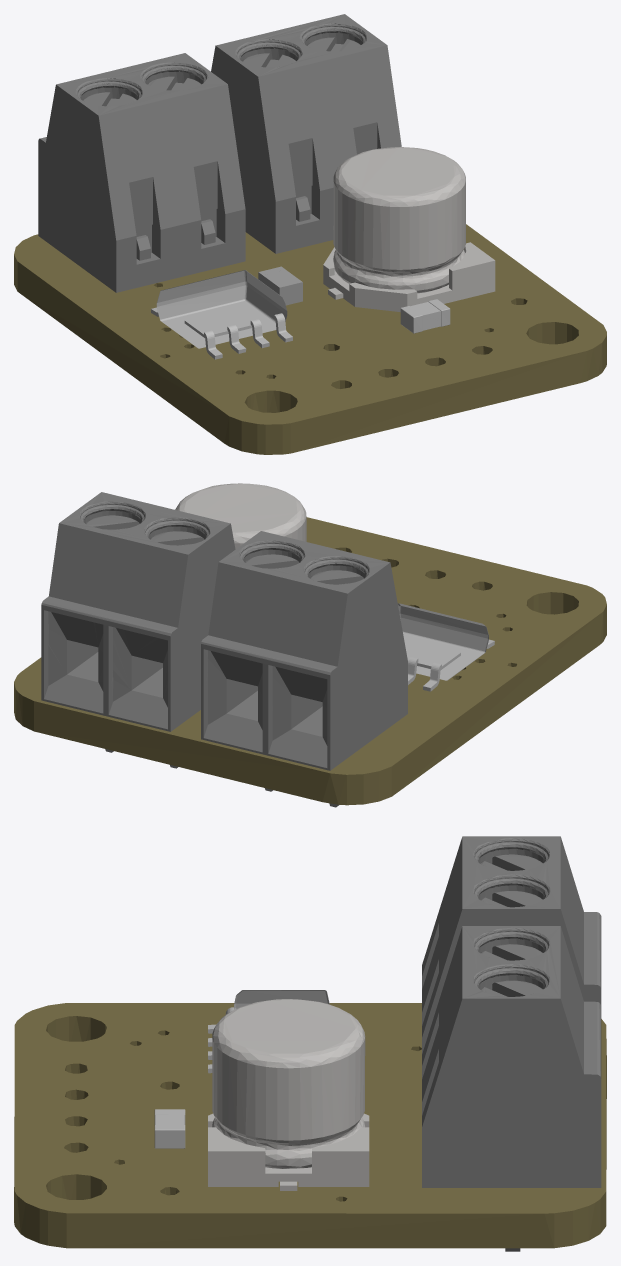
File: adafruit-3190-drv8871.glb
3 renders of one model, top to bottom at view 1: azimuth 30°, elevation 25°; view 2: azimuth 150°, elevation 25°; view 3: azimuth 270°, elevation 25°, orthographic. The views are drawn at different scales.
Parts seen in each view (by area): view 1: colour 5, colour 1, colour 4, colour 2, colour 3; view 2: colour 5, colour 1, colour 4, colour 2; view 3: colour 1, colour 5, colour 4, colour 2.
Part boxes in pixels (bbox=[...]): colour 5: bbox=[38, 14, 401, 292]; colour 1: bbox=[14, 224, 606, 454]; colour 4: bbox=[323, 147, 495, 311]; colour 2: bbox=[151, 270, 450, 359]; colour 3: bbox=[258, 266, 302, 305]; colour 5: bbox=[41, 492, 407, 807]; colour 1: bbox=[14, 517, 606, 805]; colour 4: bbox=[175, 483, 306, 549]; colour 2: bbox=[398, 603, 494, 691]; colour 1: bbox=[14, 1003, 606, 1248]; colour 5: bbox=[422, 836, 601, 1251]; colour 4: bbox=[208, 999, 369, 1190]; colour 2: bbox=[154, 990, 329, 1148].
Size of the model in its own units: 0.0203 by 0.0121 by 0.0241.
